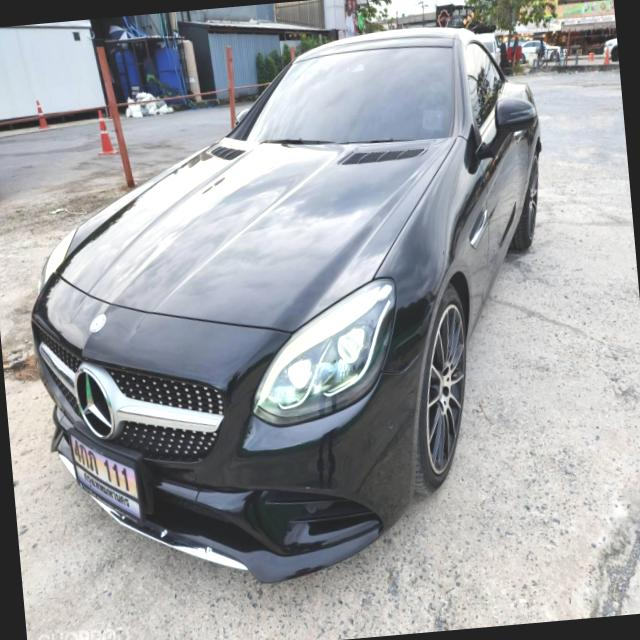license_plate: (58, 422, 153, 548)
